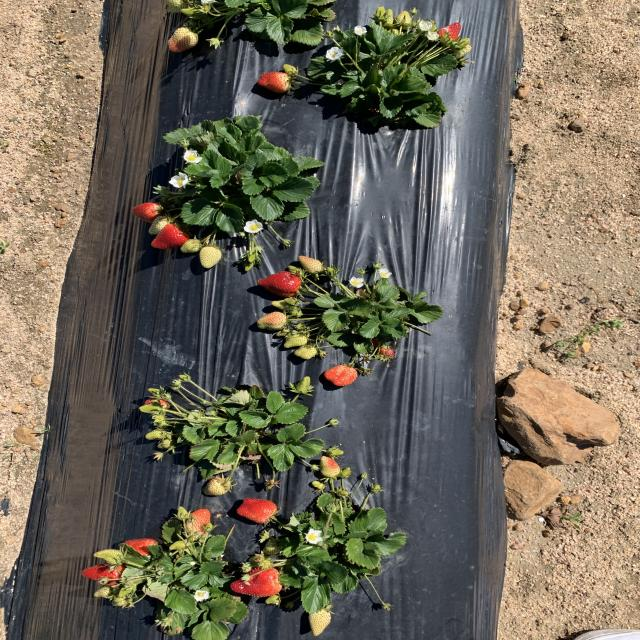unripe: (229, 567, 289, 600), (146, 224, 196, 251), (256, 270, 304, 298), (238, 498, 280, 527), (78, 562, 130, 584), (132, 198, 169, 226), (436, 22, 464, 43)
